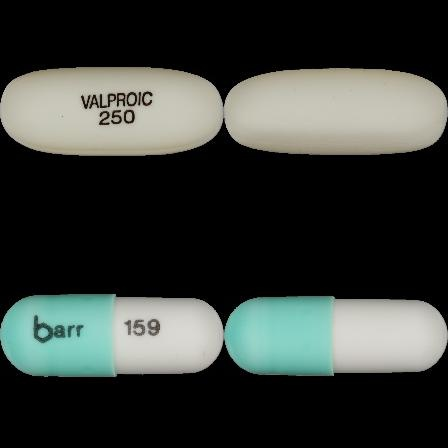67046-806: (0, 0, 224, 224)
